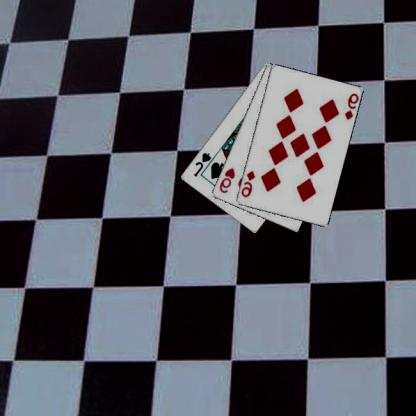6H: (218, 165, 238, 195)
9D: (240, 168, 258, 198), (344, 91, 361, 121)
JS: (192, 150, 214, 178)
